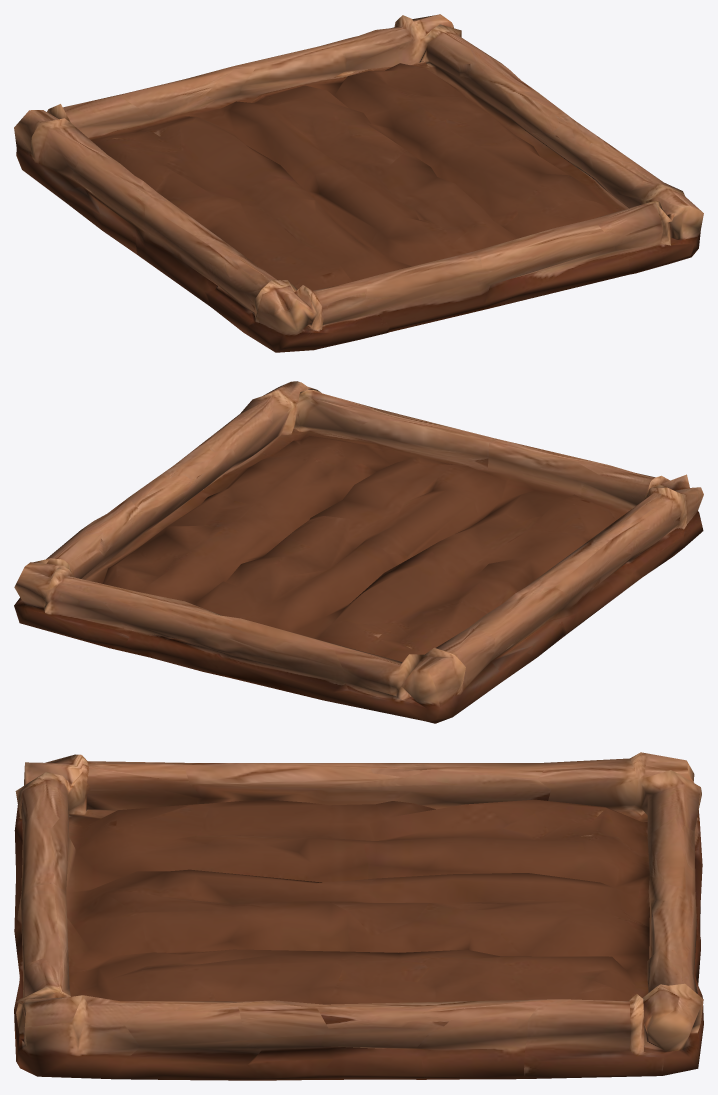
File: field_plot_l3.glb
3 renders of one model, top to bottom at view 1: azimuth 30°, elevation 25°; view 2: azimuth 150°, elevation 25°; view 3: azimuth 270°, elevation 25°, orthographic. The views are drawn at different scales.
Parts seen in each view (by area): view 1: tripo_node_1547a90d-ac42-45af-86b9-b064a0865b28; view 2: tripo_node_1547a90d-ac42-45af-86b9-b064a0865b28; view 3: tripo_node_1547a90d-ac42-45af-86b9-b064a0865b28.
Part boxes in pixels (box(x1,y1,x2,y2)): tripo_node_1547a90d-ac42-45af-86b9-b064a0865b28: box(14, 14, 703, 352); tripo_node_1547a90d-ac42-45af-86b9-b064a0865b28: box(14, 381, 703, 723); tripo_node_1547a90d-ac42-45af-86b9-b064a0865b28: box(14, 752, 703, 1080).
Size of the model in its own units: 0.895 by 0.1181 by 0.9746.
1 material, 1 textured.
